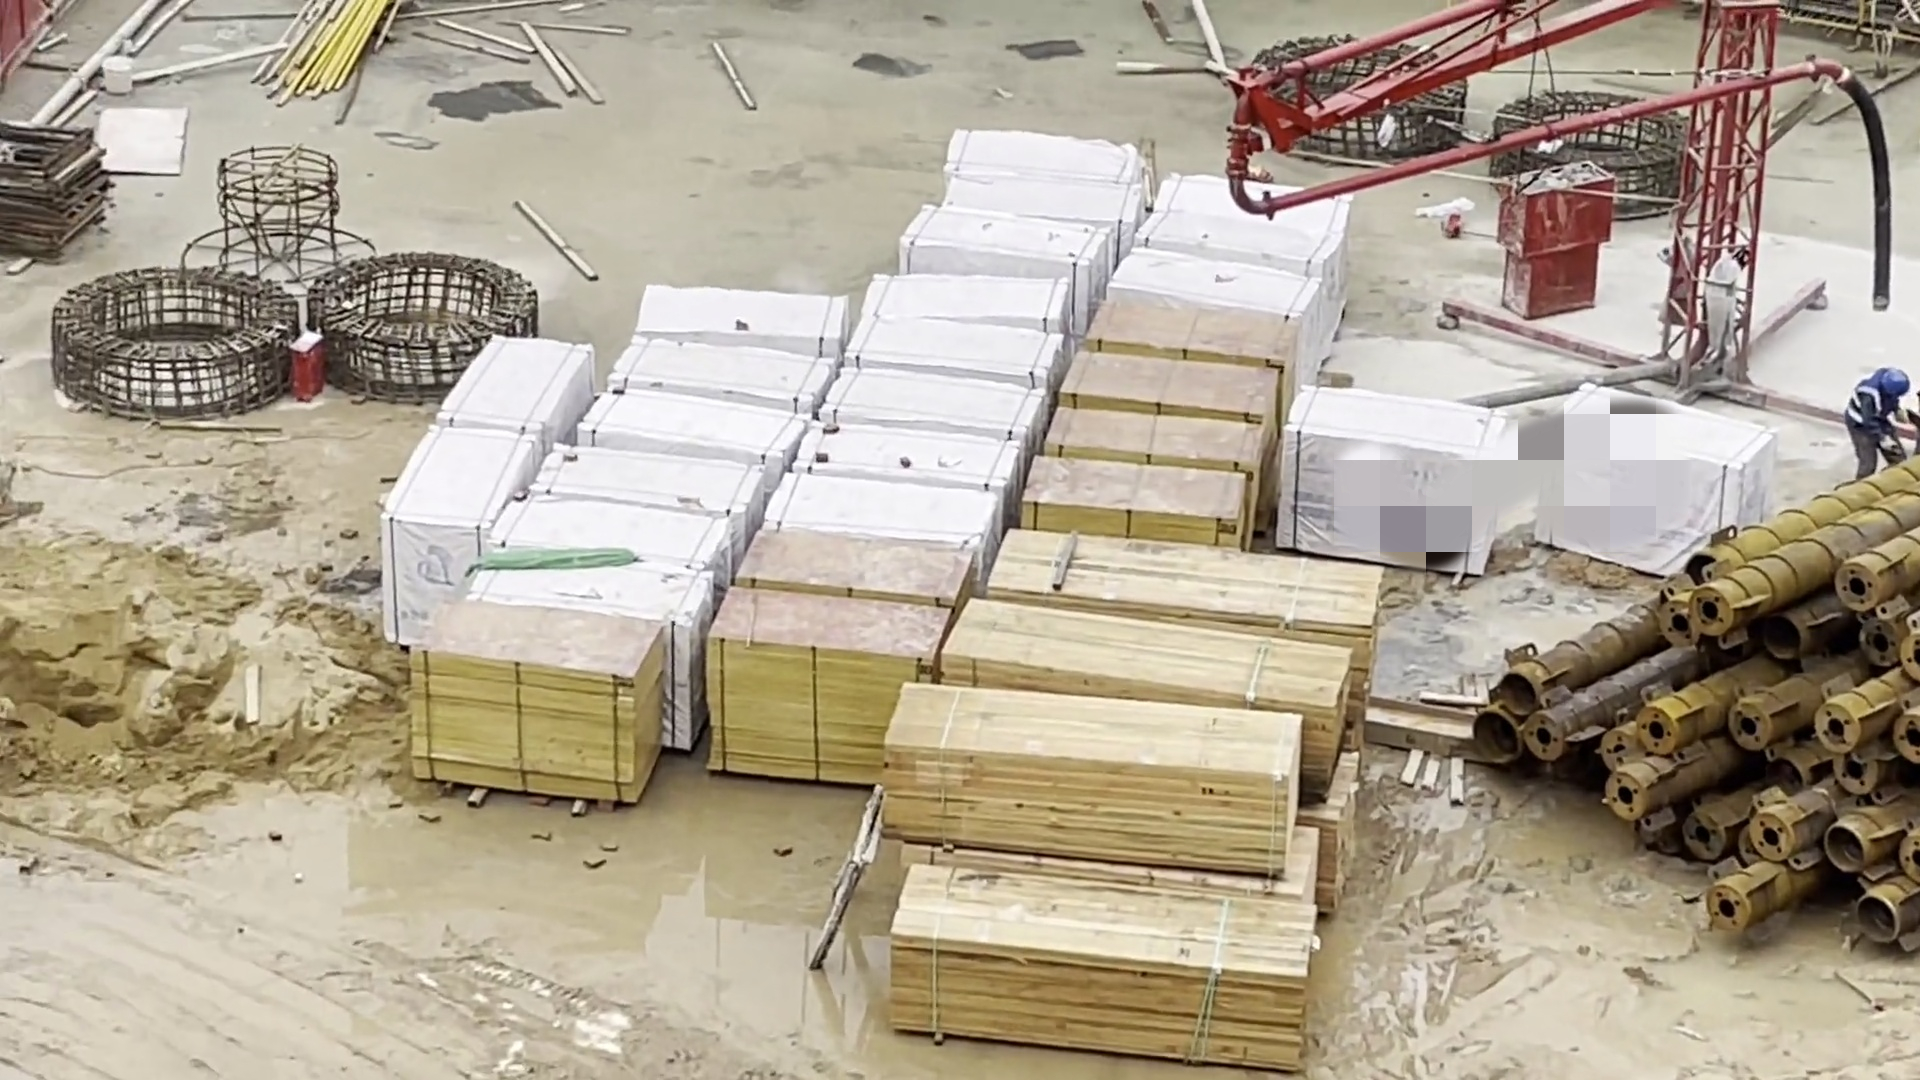helmet: (1882, 364, 1920, 399)
person: (1834, 360, 1920, 472)
vest: (1844, 370, 1891, 429)
wood: (884, 859, 1327, 1070), (872, 680, 1321, 875), (929, 588, 1347, 754), (982, 515, 1389, 668), (696, 580, 965, 810), (414, 592, 657, 818), (1023, 450, 1250, 559), (735, 516, 982, 604), (1039, 398, 1301, 478), (1100, 286, 1310, 370), (1058, 343, 1285, 416)
